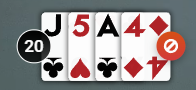4: (121, 11, 149, 41)
5: (68, 11, 95, 40)
a: (94, 12, 122, 40)
j: (41, 11, 68, 40)
